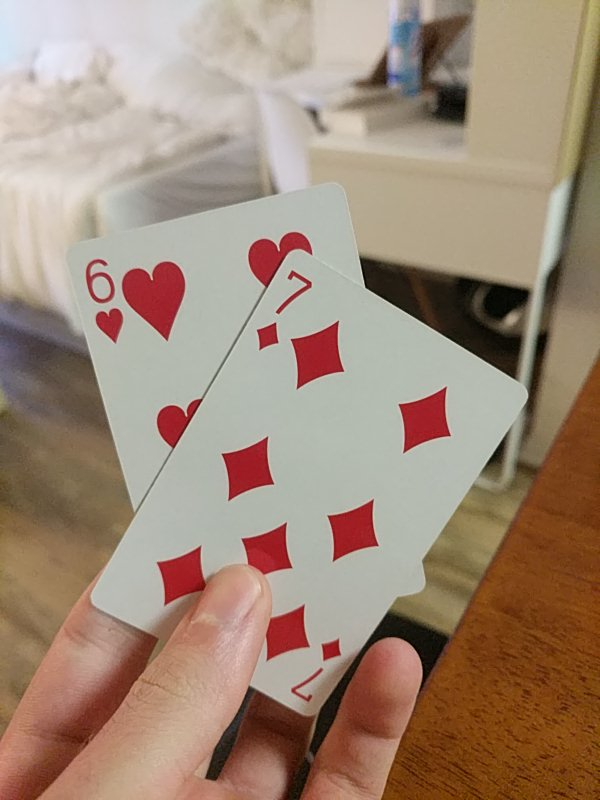Diamonds: (91, 254, 528, 721)
Hearts: (66, 181, 376, 511)
